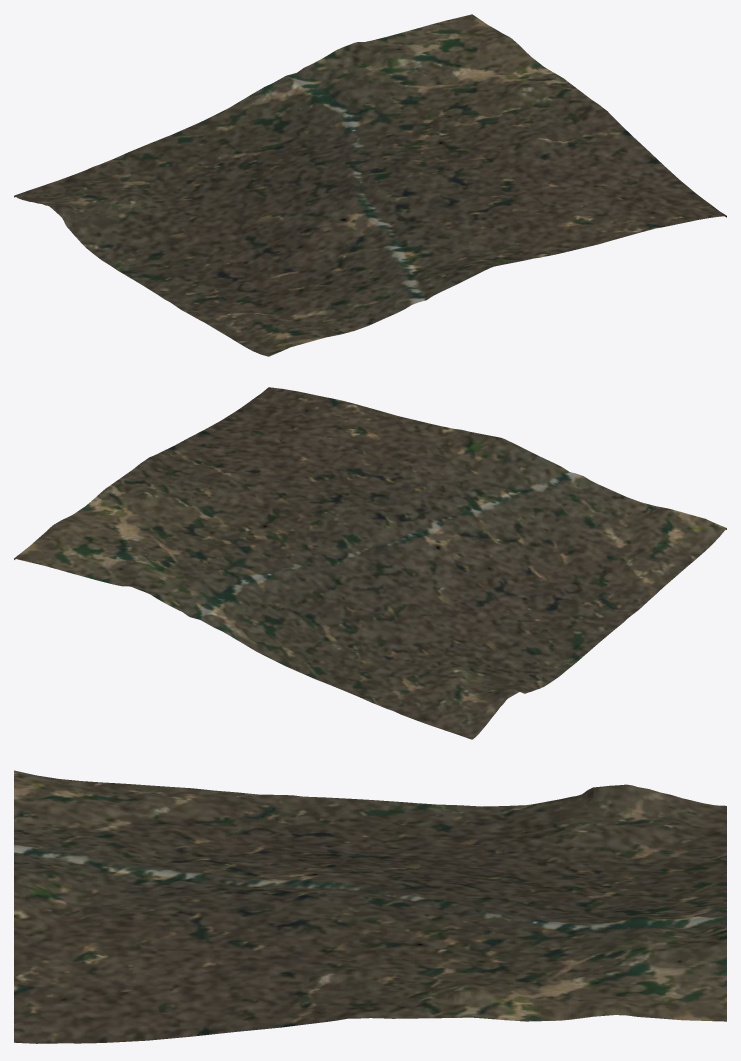
3 renders of one model, top to bottom at view 1: azimuth 30°, elevation 25°; view 2: azimuth 150°, elevation 25°; view 3: azimuth 270°, elevation 25°, orthographic. The views are drawn at different scales.
Bounding box in the file's own units: 250 × 40.47 × 241.
1 material, 1 textured.
